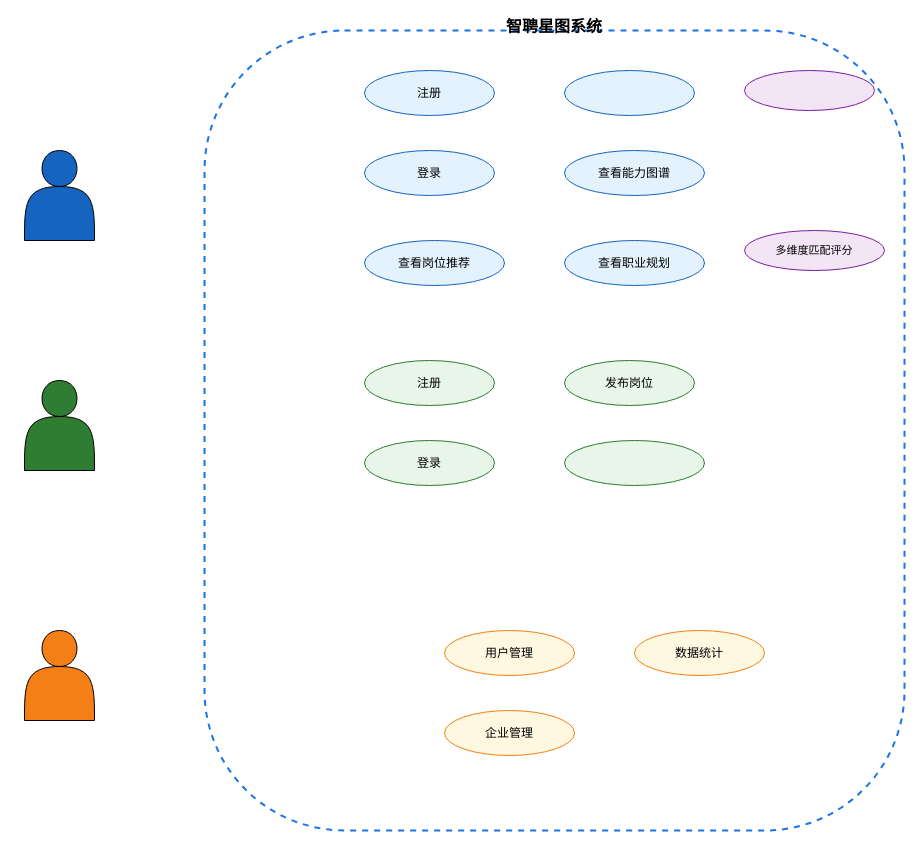
This 923x848 diagram has some shape labels left out. Each missing label, with the box of its shape:
AI文档解析: (744, 70, 874, 110)
上传简历: (564, 70, 694, 116)
企业用户: (24, 380, 94, 470)
查看人才推荐: (564, 440, 704, 486)
求职者: (24, 150, 94, 240)
管理员: (24, 630, 94, 720)
